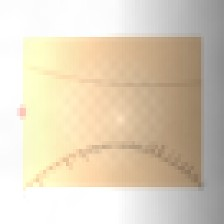pinguecula_lesion: (141, 87, 189, 125)
